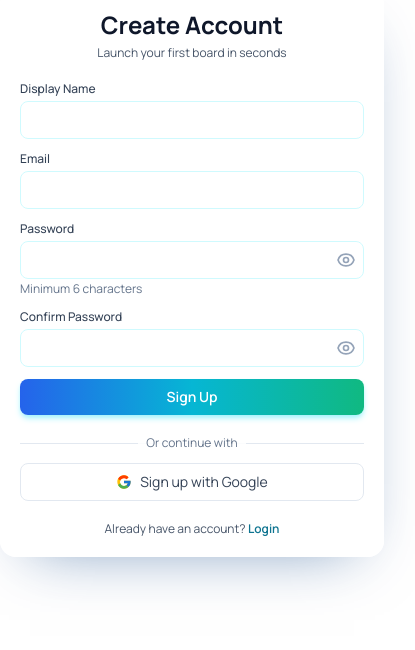
it: SignupForm › validates password length
Type "John Doe" into the field labelled "Display Name".
click(192, 120); type("John Doe")  # box top-left (20, 101), bottom-right (364, 139)
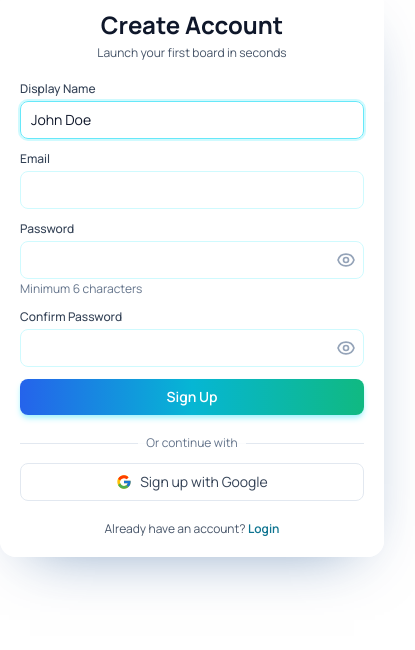
Type "john@example.com" into the field labelled "Email".
click(192, 190); type("john@example.com")  # box top-left (20, 171), bottom-right (364, 209)
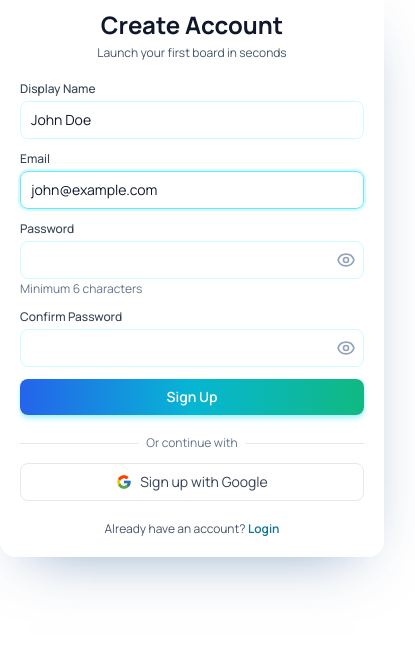
Type "12345" into the password field labelled "Password".
click(192, 260); type("12345")  # box top-left (20, 241), bottom-right (364, 279)
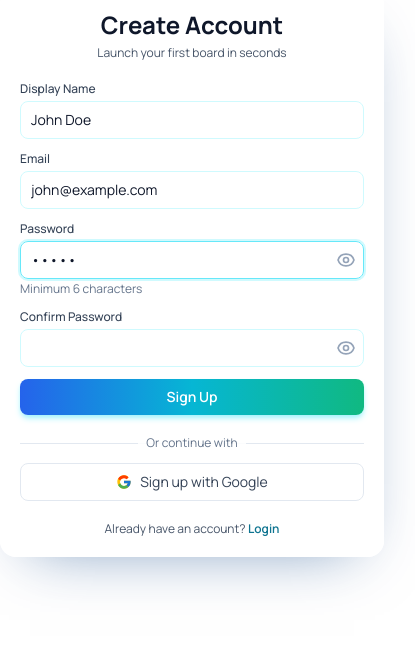
Type "12345" into the password field labelled "Confirm Password".
click(192, 348); type("12345")  # box top-left (20, 329), bottom-right (364, 367)
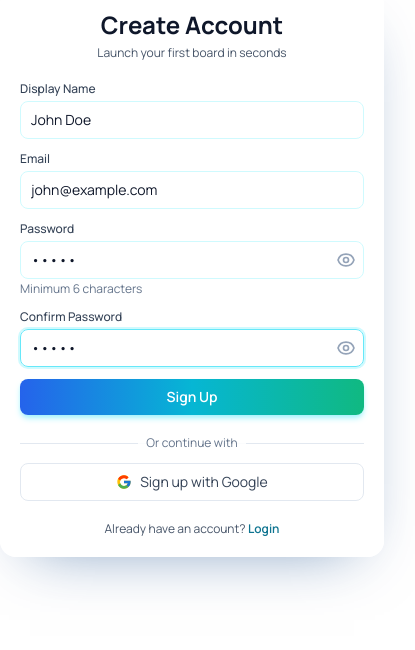
Click the button "Sign Up".
click(192, 397)  # box top-left (20, 379), bottom-right (364, 415)
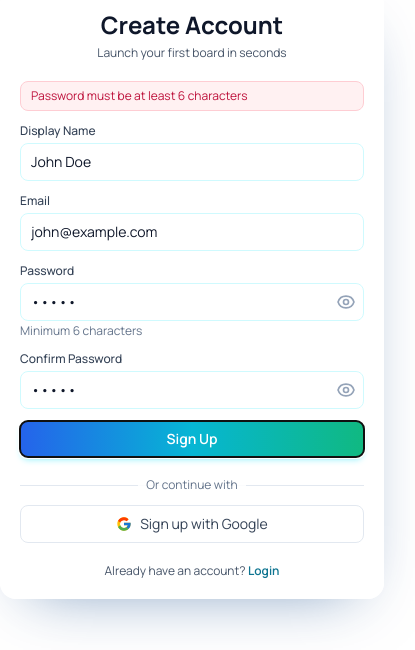
Check: the message shows "at least 6 characters", box top-left (31, 87), bottom-right (248, 104)
